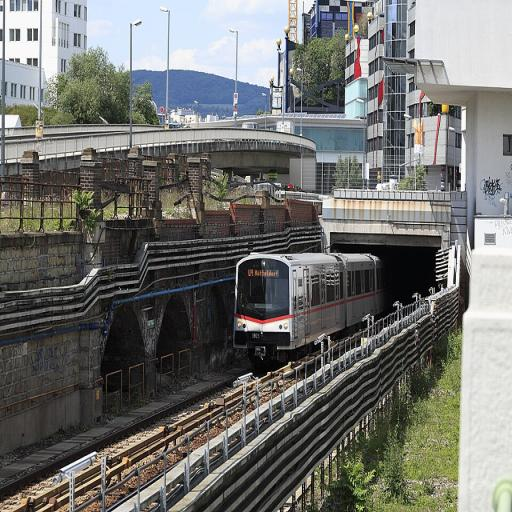V-Wagen: (230, 246, 384, 362)
